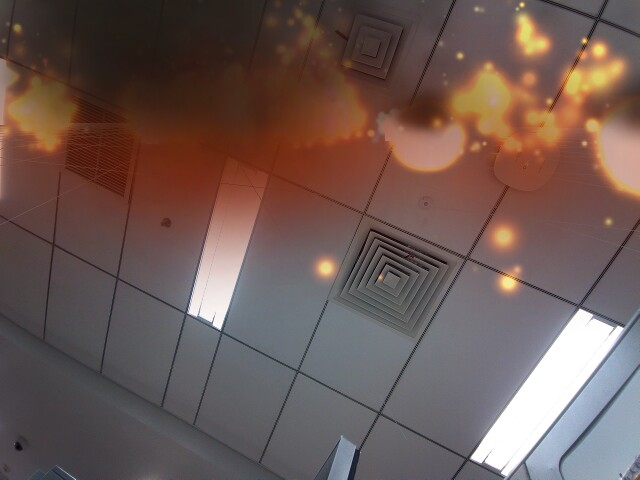fire: (386, 97, 472, 184), (597, 94, 637, 206)
